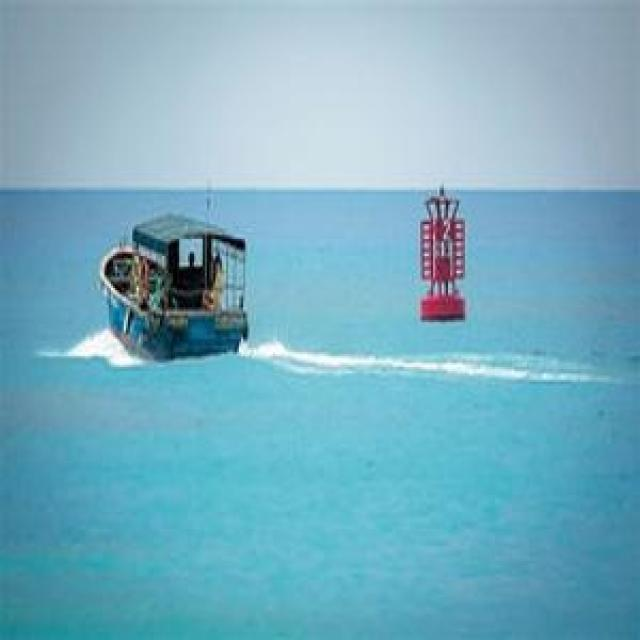houseboat: (98, 213, 254, 364)
